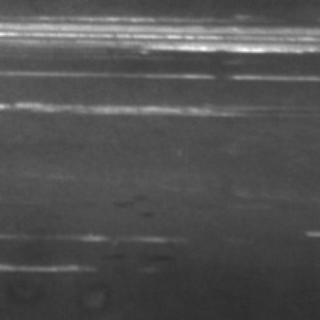scratches: (0, 10, 316, 58), (0, 94, 270, 118), (1, 252, 98, 280)
